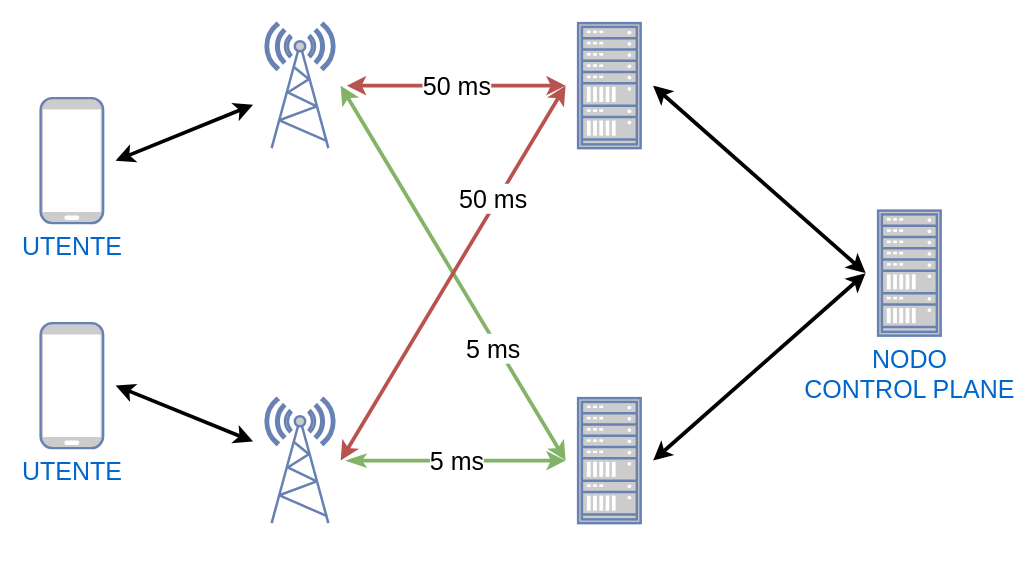
This 1035x583 diagram has some shape labels left out. The centre of each missing label's shape, as x and y in pixels:
"NODO B" belongs at (x=608, y=85).
"NODO C" belongs at (x=608, y=460).
